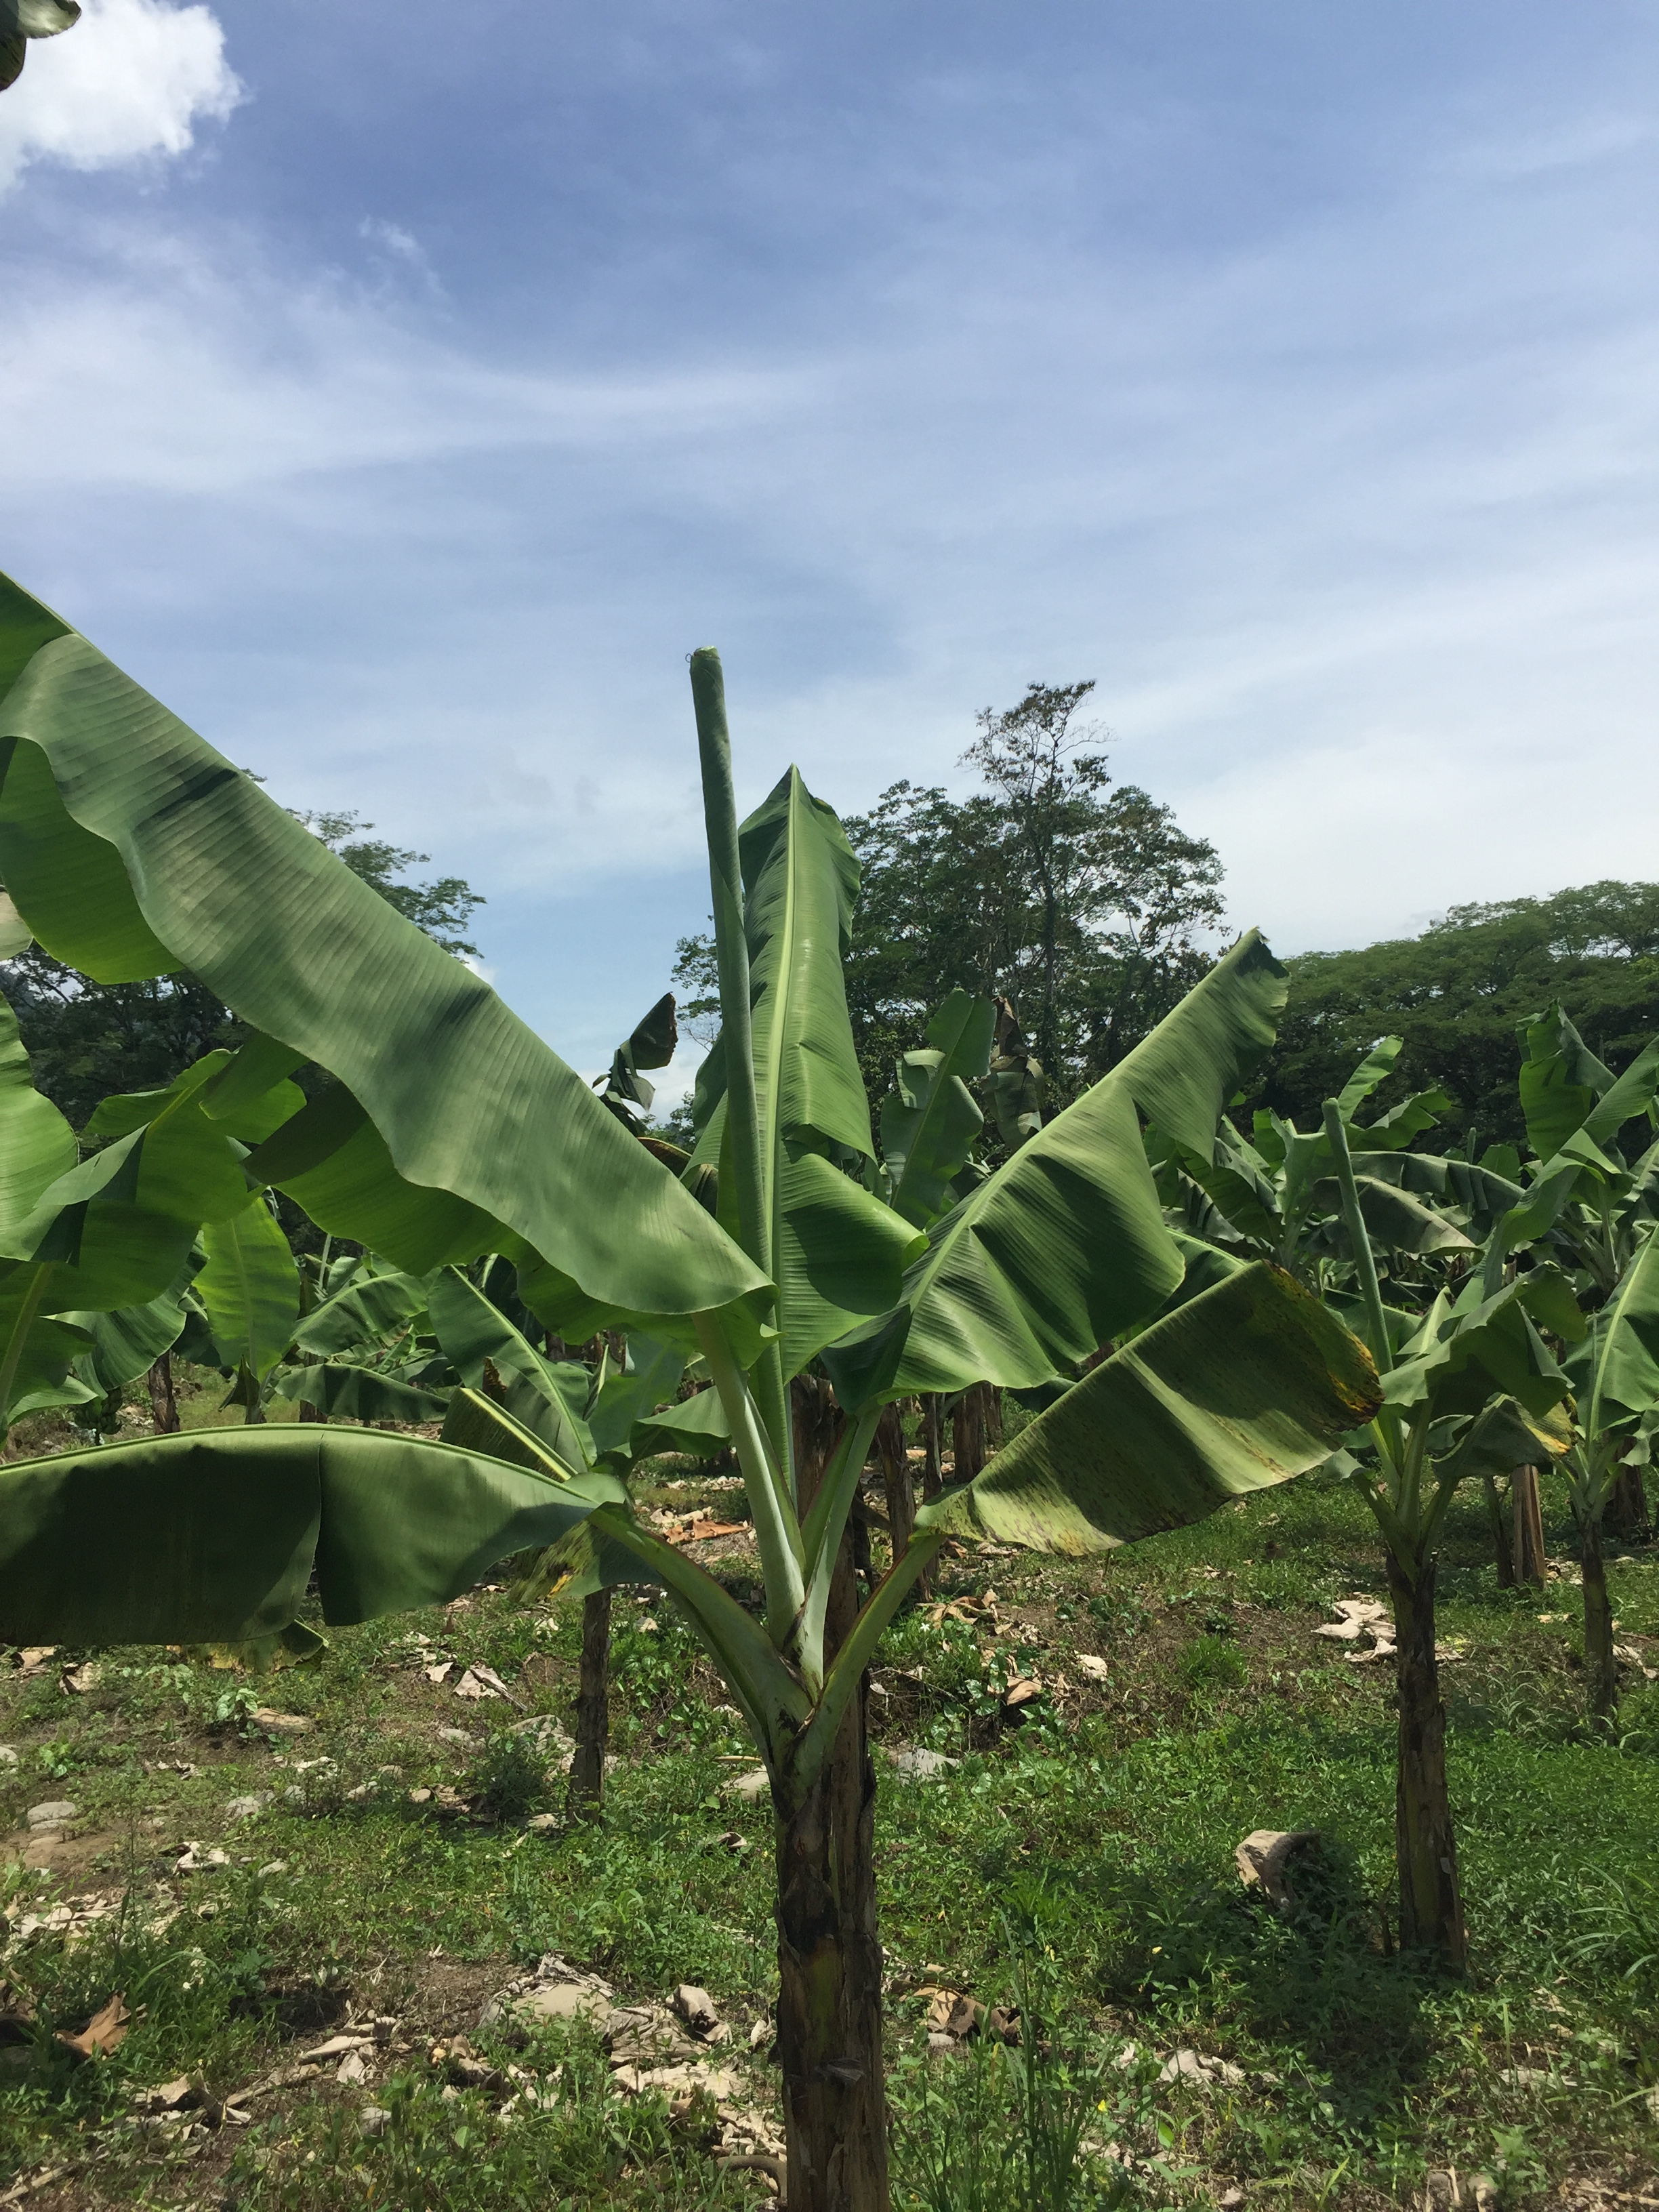candleleafs: (687, 644, 795, 1468), (1321, 1097, 1394, 1371)
